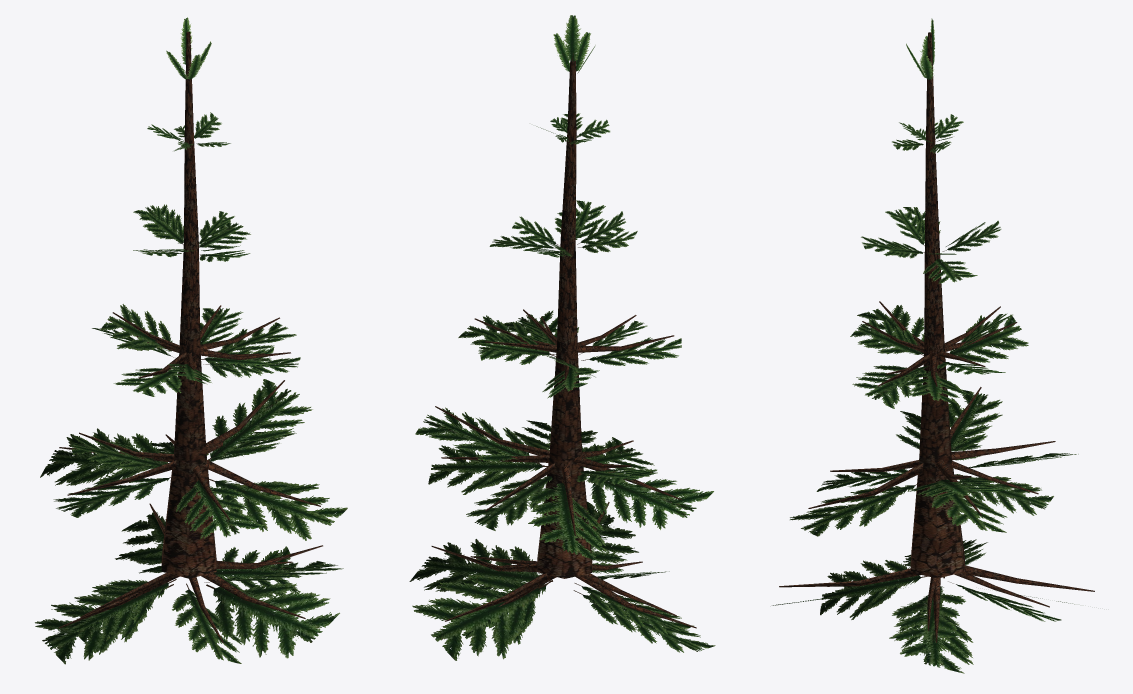
File: pine-small-lite.glb
3 views of the same model, side by side, from view 1: azimuth 30°, elevation 25°; view 2: azimuth 150°, elevation 25°; view 3: azimuth 270°, elevation 25° (orthographic).
Visible parts, largest first — view 1: pine_small_lite; view 2: pine_small_lite; view 3: pine_small_lite.
Boxes of the visible parts, x1=… form: pine_small_lite: x1=35, y1=17, x2=347, y2=664; pine_small_lite: x1=409, y1=15, x2=715, y2=660; pine_small_lite: x1=772, y1=18, x2=1094, y2=673.
Size of the model in its own units: 4.42 by 9.04 by 4.91.
Materials: 1 (1 with a texture image).
